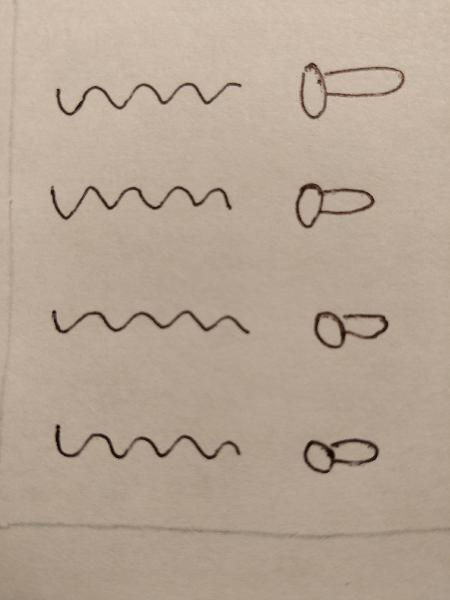switch: (286, 49, 409, 128), (285, 169, 383, 239), (302, 295, 401, 356), (291, 423, 384, 484)
text: (37, 410, 260, 479), (42, 291, 260, 358), (48, 64, 245, 134), (41, 176, 242, 233)
